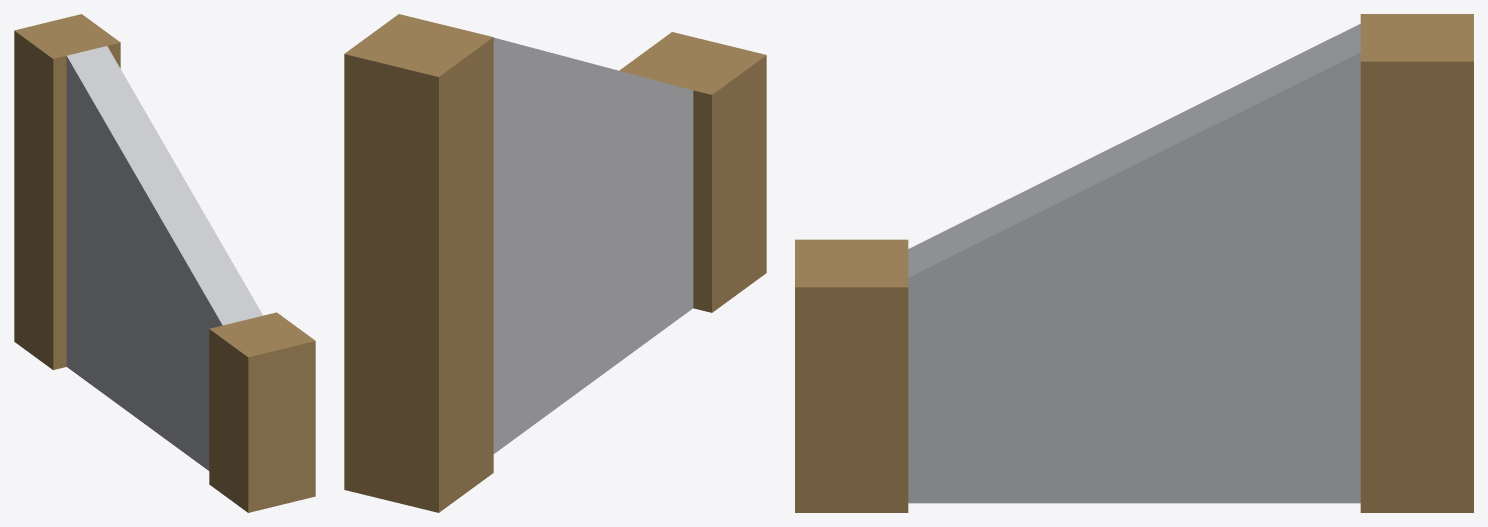
The model's file is Wood_Slanted_Wall_01.obj.
3 views of the same model, side by side, from view 1: azimuth 30°, elevation 25°; view 2: azimuth 150°, elevation 25°; view 3: azimuth 270°, elevation 25° (orthographic). The views are drawn at different scales.
Parts seen in each view (by area): view 1: Mesh1_Wood_Slanted_Wall_Model; view 2: Mesh1_Wood_Slanted_Wall_Model; view 3: Mesh1_Wood_Slanted_Wall_Model.
Boxes of the visible parts, x1,y1,x2,y2 form: Mesh1_Wood_Slanted_Wall_Model: [14, 14, 315, 512]; Mesh1_Wood_Slanted_Wall_Model: [344, 14, 766, 512]; Mesh1_Wood_Slanted_Wall_Model: [795, 14, 1473, 512].
Size of the model in its own units: 0.5 by 2.2 by 3.
